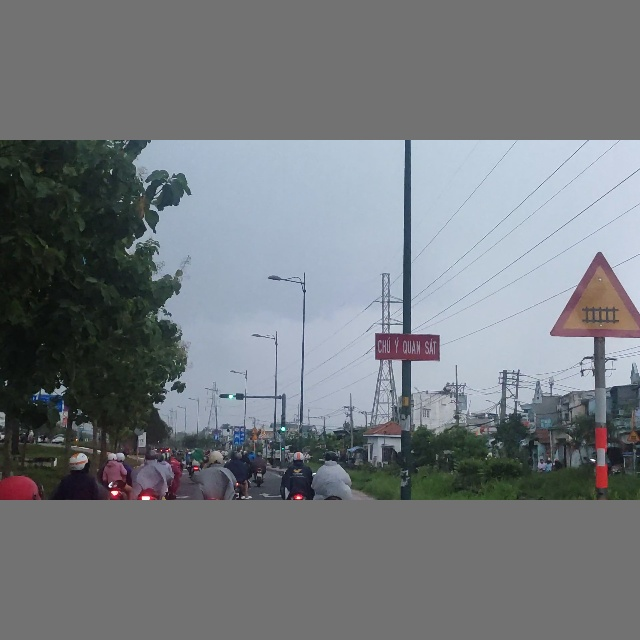I.407a: (213, 435, 220, 440)
W.210: (549, 251, 640, 339)
